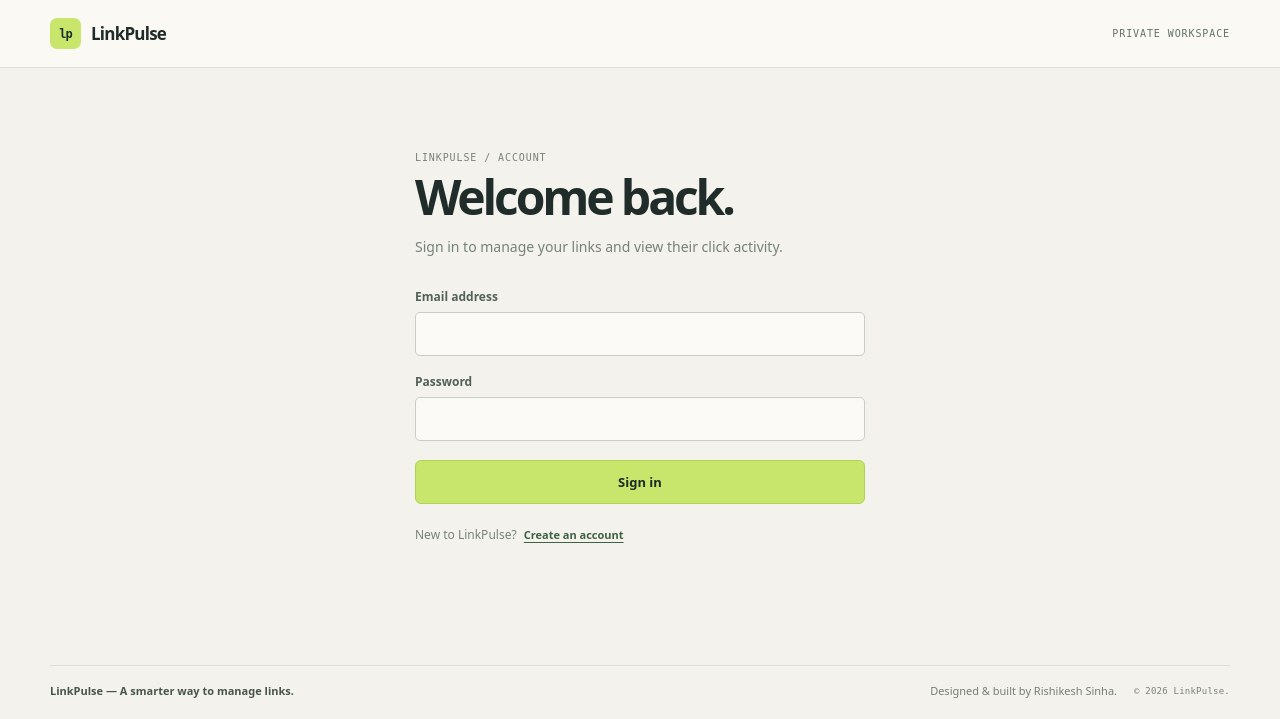
LinkPulse analytics dashboard › shows the sign-in gate and returns to the live dashboard after authentication
The width and height of the screenshot is (1280, 719).
Expected: the heading "Welcome back." is shown, [415,164,733,229]
Type "owner@example.test" into the field labelled "Email address" at (640, 334), box [415,312,865,356]
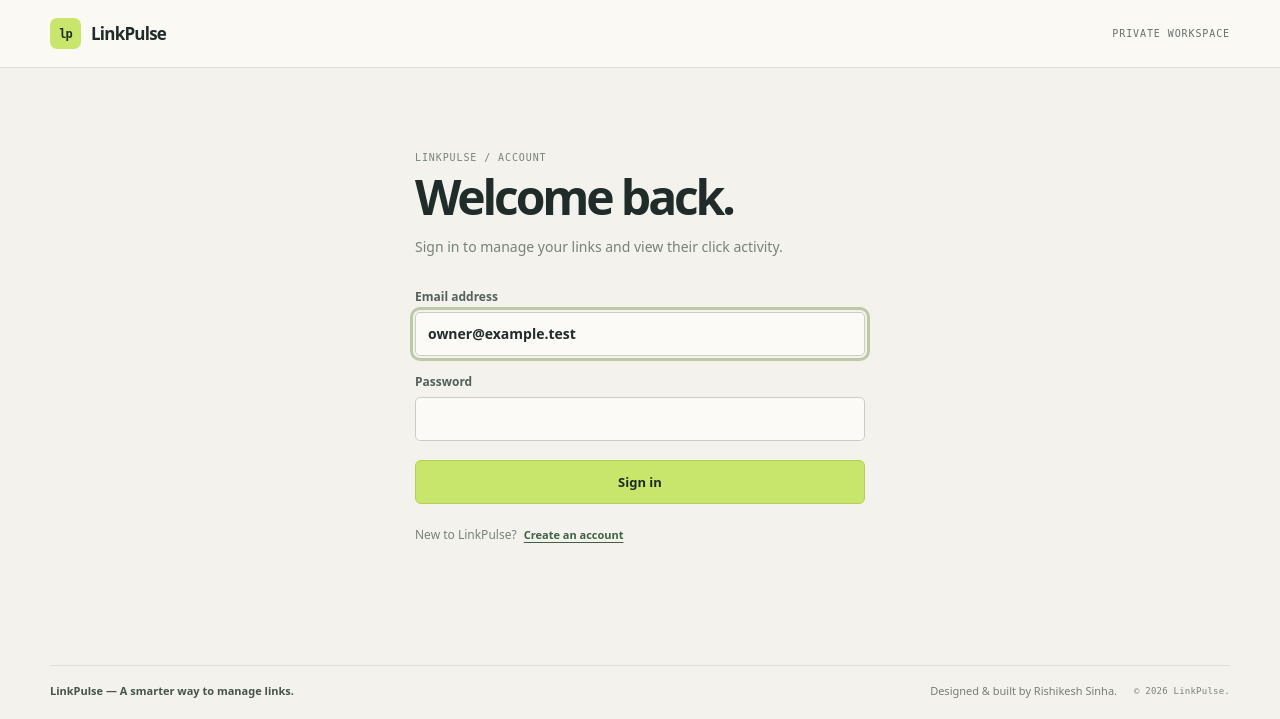
Type "a-long-test-password" into the password field labelled "Password" at (640, 419), box [415,397,865,441]
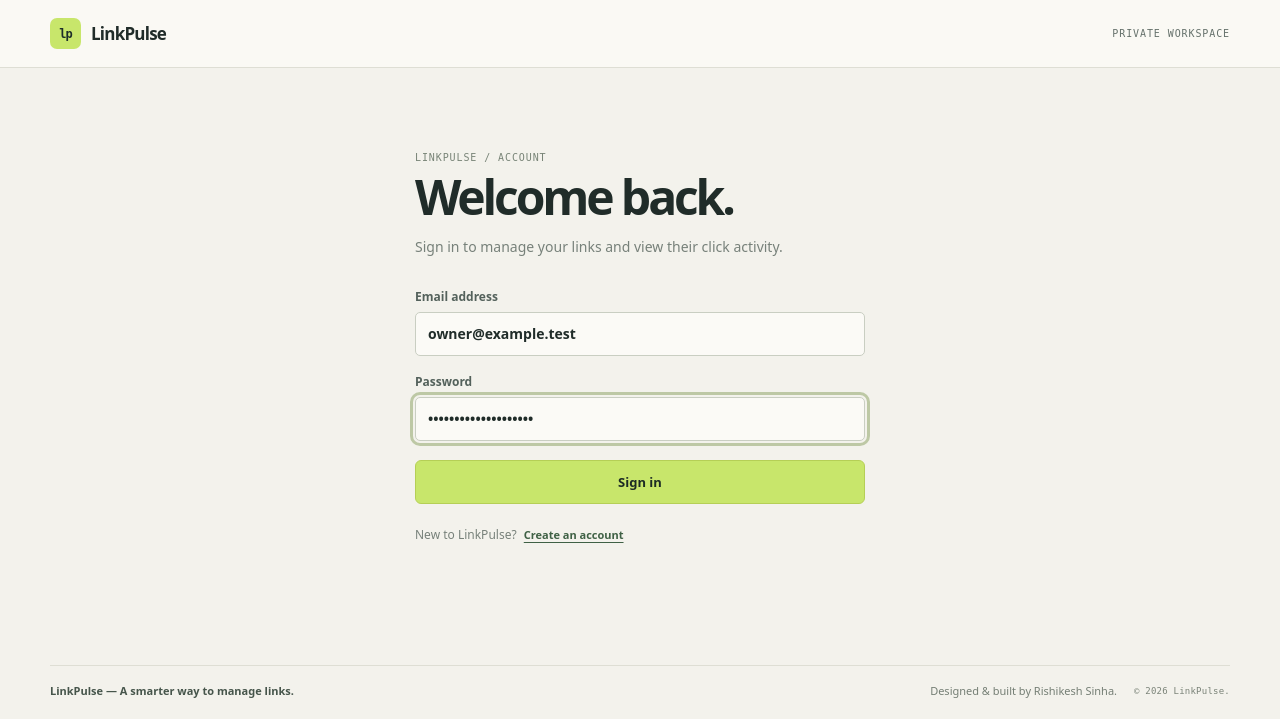
Click the button "Sign in" at (640, 482), box [415,460,865,504]
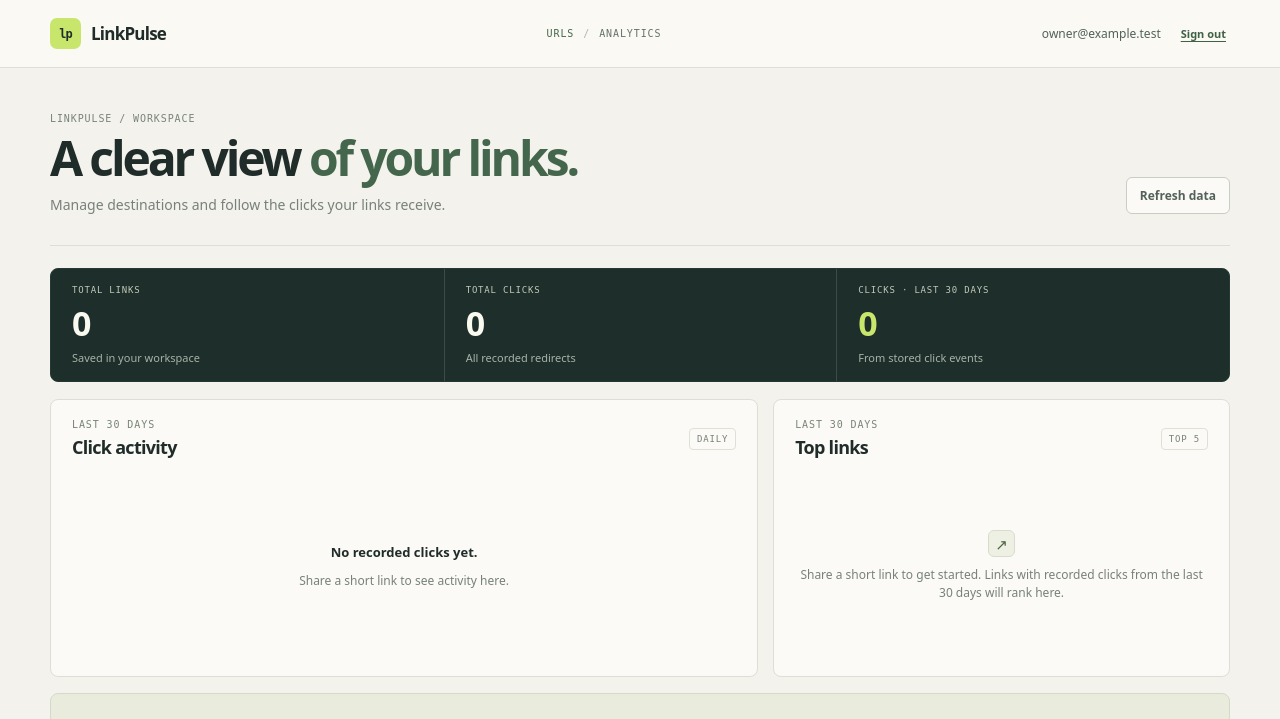
Expected: the heading "A clear view of your links." is shown, [50,134,577,183]
